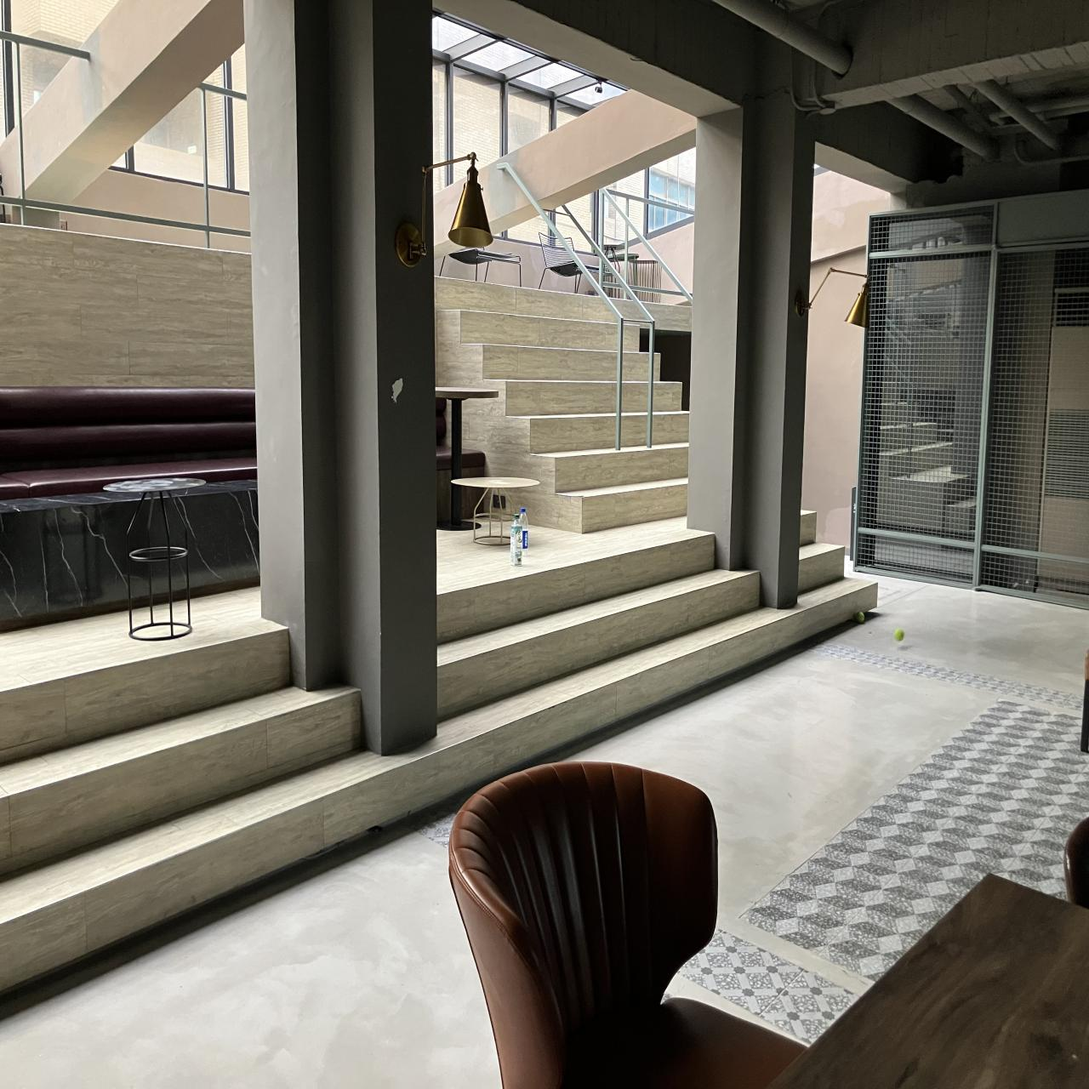plastic-bottle: (510, 517, 522, 565), (520, 507, 528, 551)
tennisball: (894, 629, 904, 641), (856, 613, 865, 624)
